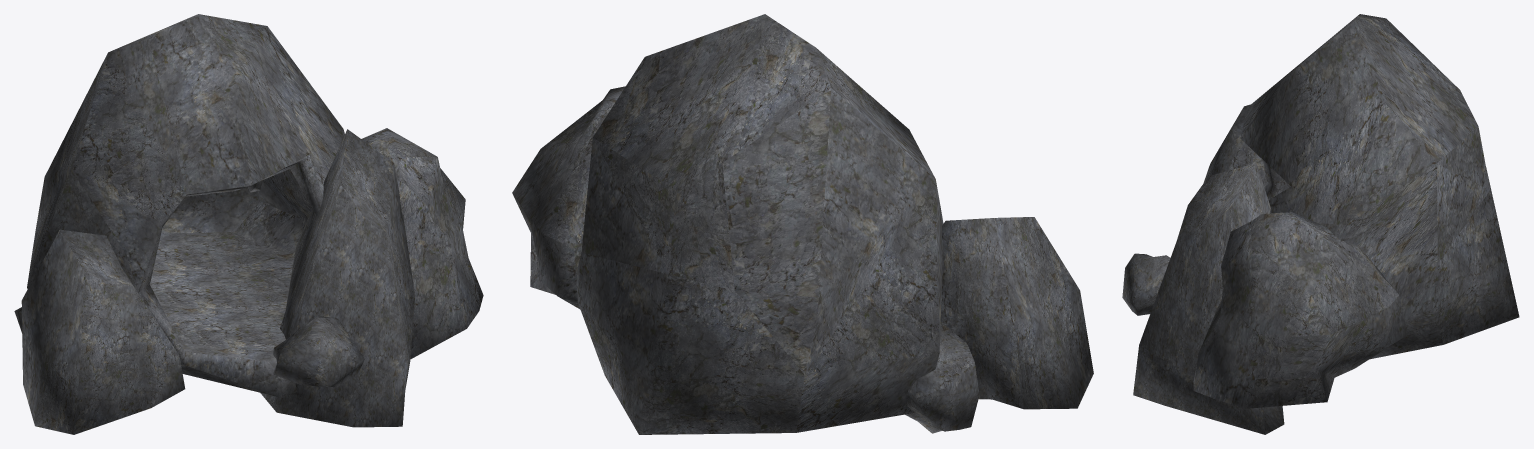
File: cave01-01.fbx
The picture shows the model from 3 angles, left to right: view 1: azimuth 30°, elevation 25°; view 2: azimuth 150°, elevation 25°; view 3: azimuth 270°, elevation 25°; orthographic projection. The views are drawn at different scales.
Visible parts, largest first — view 1: 02- cave; view 2: 02- cave; view 3: 02- cave.
Boxes of the visible parts, box(x1,y1,x2,y2) form: 02- cave: box(14, 14, 483, 434); 02- cave: box(512, 14, 1093, 434); 02- cave: box(1122, 14, 1519, 434).
Bounding box in the file's own units: 8867 × 6927 × 7138.
